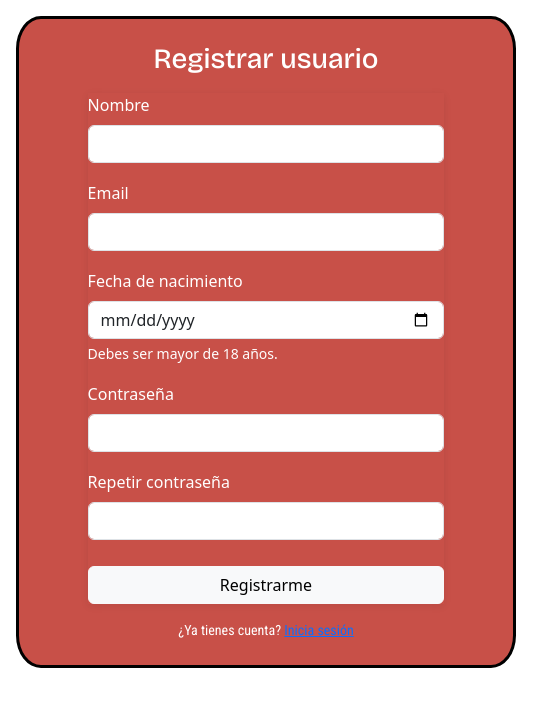
Test: Registro Page › rechaza contraseñas que no coinciden
Type "Ash Ketchum" into the field labelled "Nombre" at (266, 144), box left=88, top=125, right=444, bottom=163
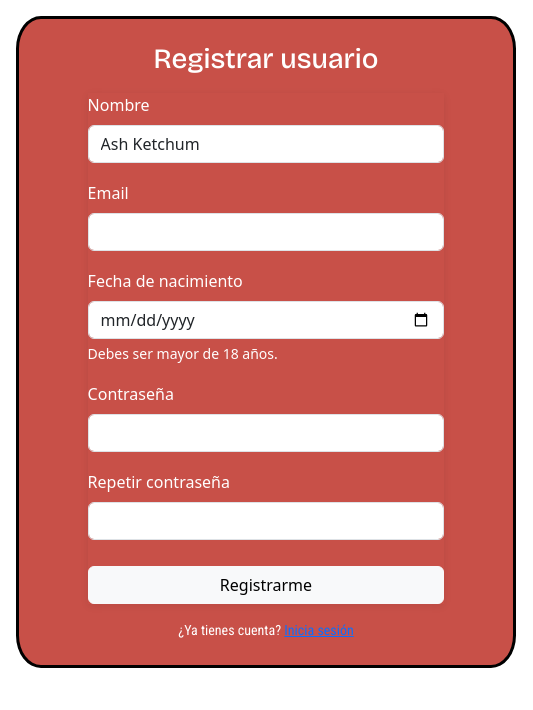
Type "ash@gmail.com" into the field labelled "Email" at (266, 232), box left=88, top=213, right=444, bottom=251
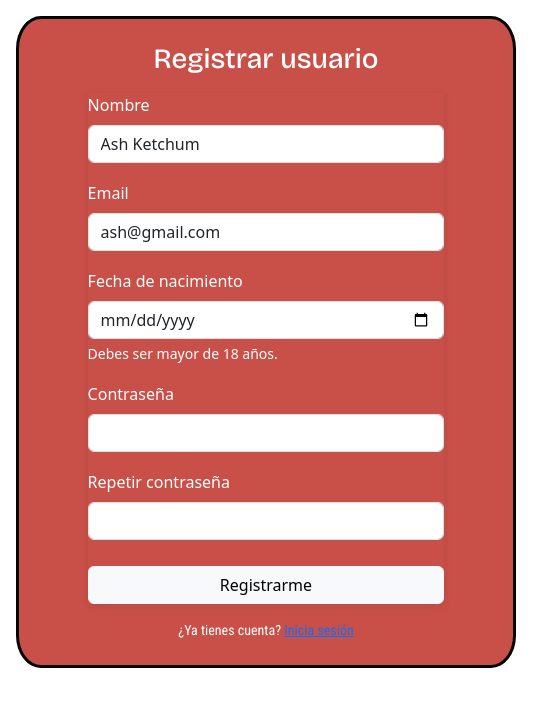
Type "2000-05-20" into the date field labelled "Fecha de nacimiento" at (266, 320), box left=88, top=301, right=444, bottom=339
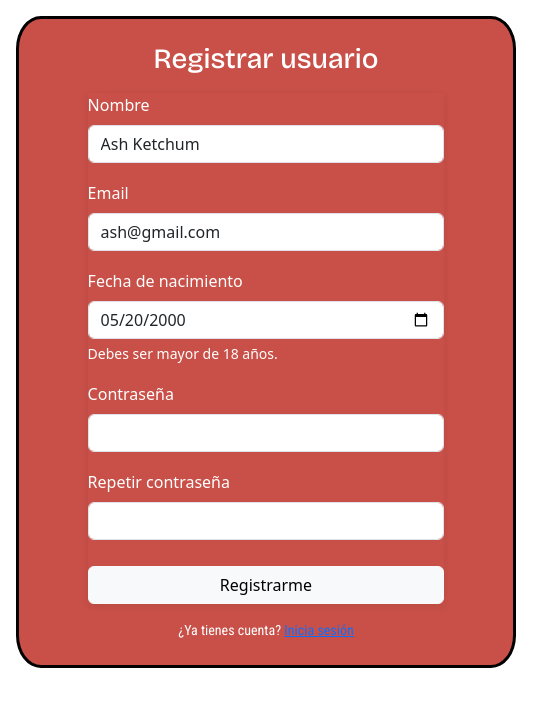
Type "pika1" into the password field labelled "Contraseña" at (266, 433), box left=88, top=414, right=444, bottom=452
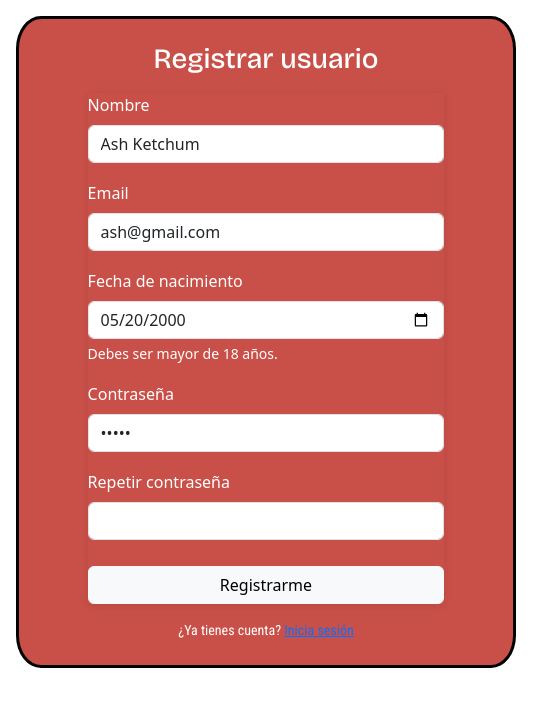
Type "otra1" into the password field labelled "Repetir contraseña" at (266, 521), box left=88, top=502, right=444, bottom=540
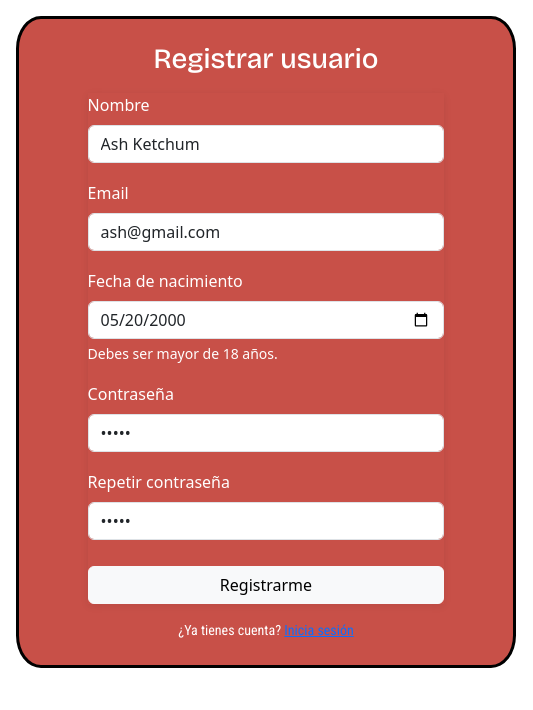
Click the button "Registrarme" at (266, 585), box left=88, top=566, right=444, bottom=604
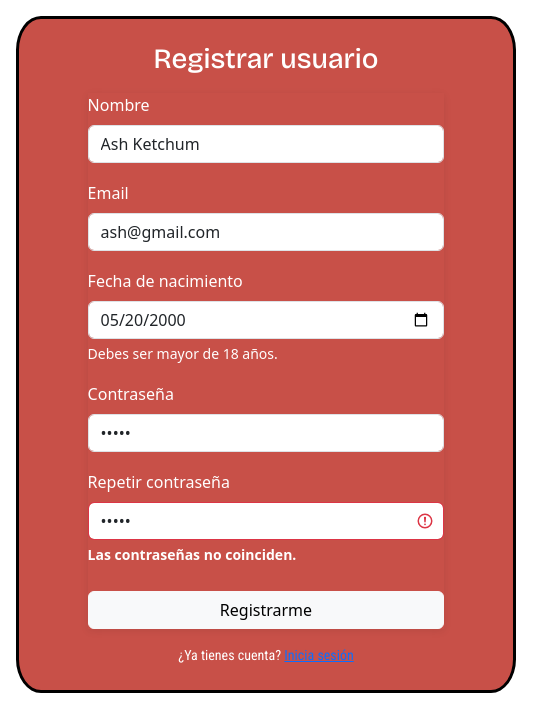
expect the text "Las contraseñas no coinciden." is shown: met, box left=88, top=545, right=296, bottom=564
